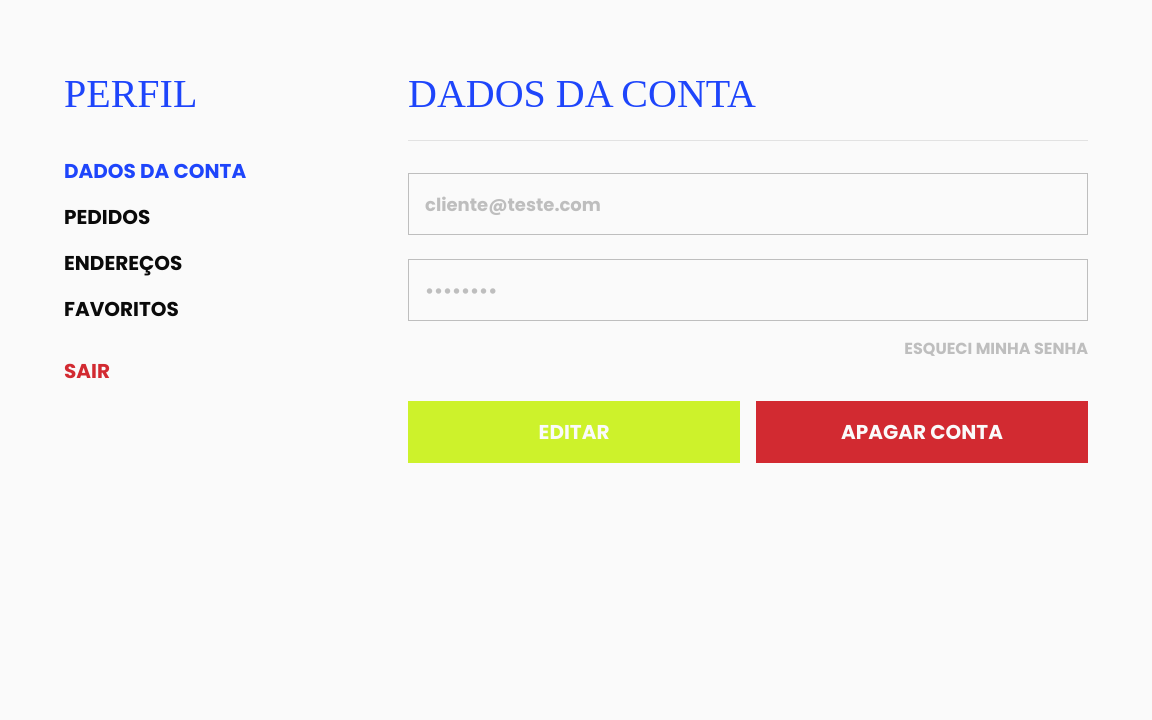
Profile Component › permite alternar para o modo de edição
Step 1. Click the button "Editar" → x=574, y=432, box [408,401,740,463]
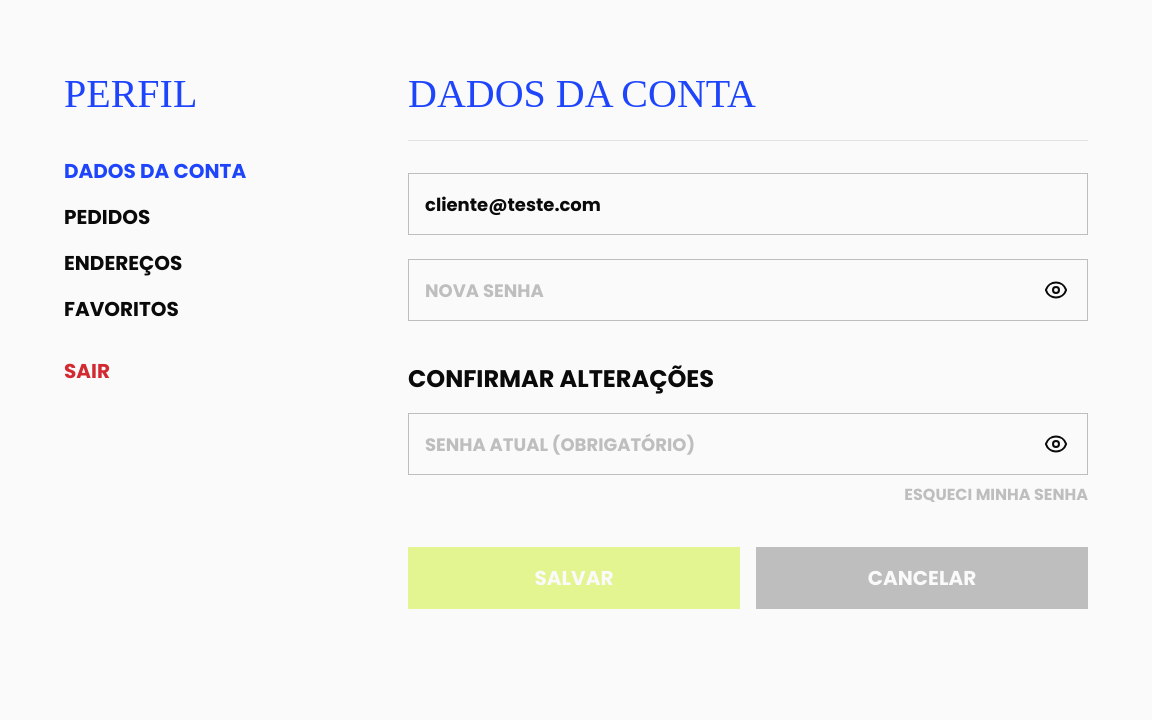
Expected: the password field with placeholder "NOVA SENHA" is shown, [408,259,1088,321]
